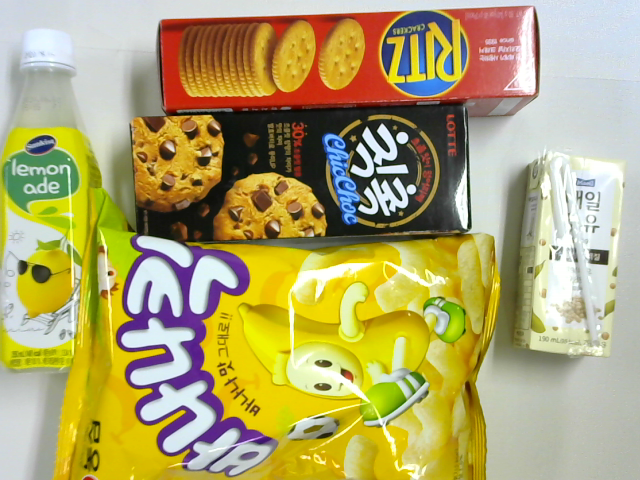99.89_Soymilk: (510, 150, 628, 357)
Banana_Kick: (50, 187, 500, 480)
Chicchok_Original_2400: (129, 102, 472, 242)
Ritz_Cracker: (157, 6, 541, 119)
Sunkist_Lemonaid_Pet: (1, 28, 102, 374)
